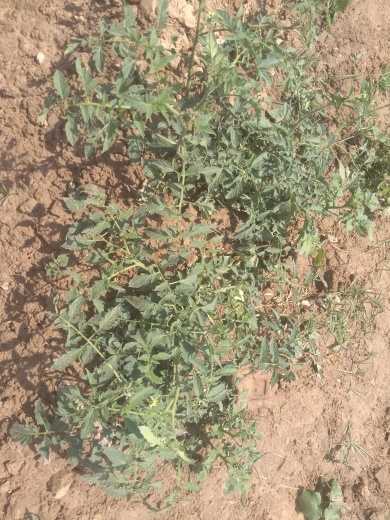tomato plant: (63, 18, 267, 468), (74, 6, 341, 299)
